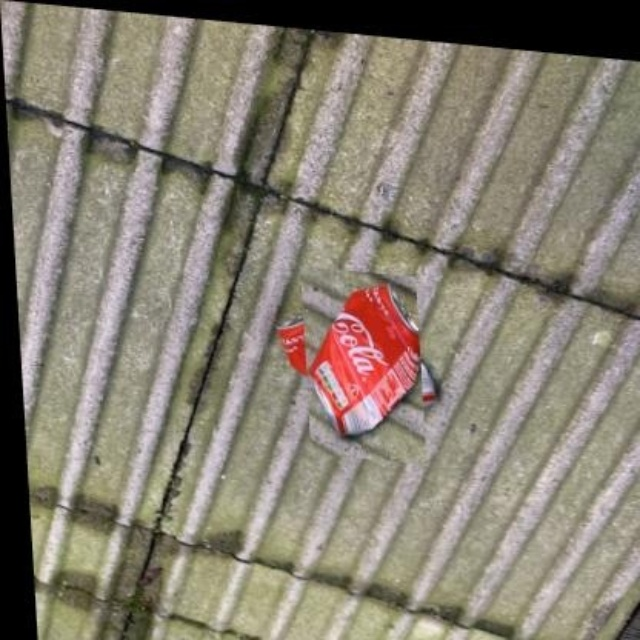trash: (309, 285, 420, 434), (309, 285, 418, 434)
